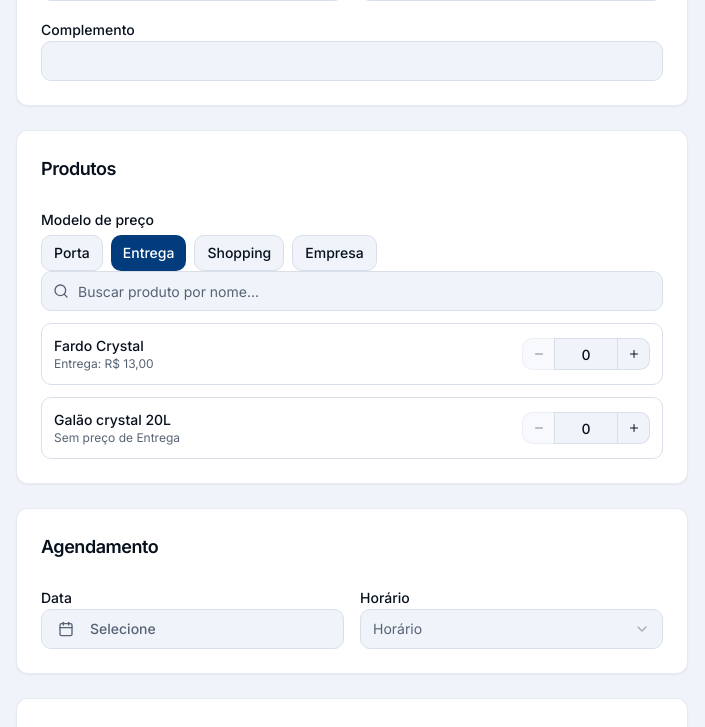
Test case: Novo pedido: preço por item › trocar o modelo de preço refaz o preço dos itens
The width and height of the screenshot is (705, 727).
Later steps or results of the test are not shown.
(page scrolled)
Click the button named "Aumentar" in the row of "Entrega: R$ 13,00".
click(634, 354)  # box [618,338,650,370]
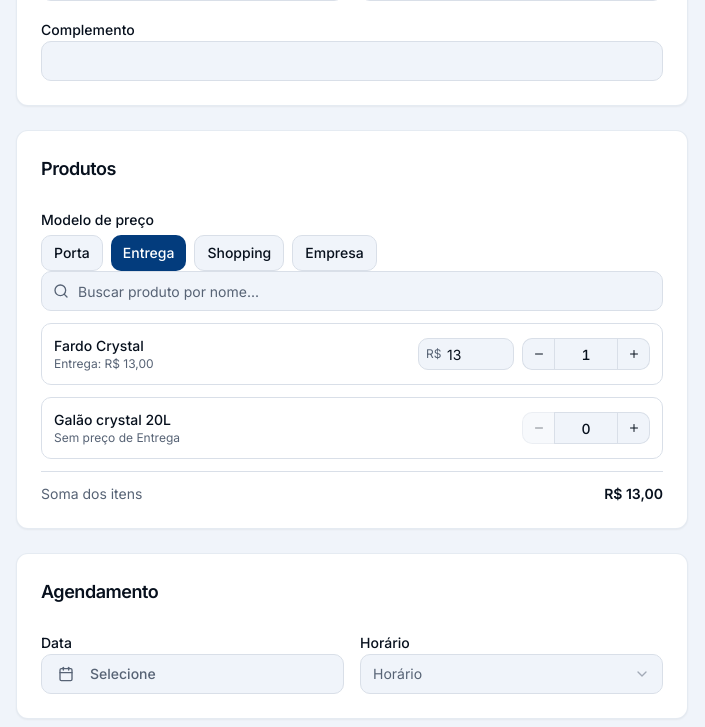
Now the field named "Preço unitário de Fardo Crystal" holds "13", box [418,338,514,370]
Click the button "Shopping".
click(239, 253)  # box [194,235,284,271]
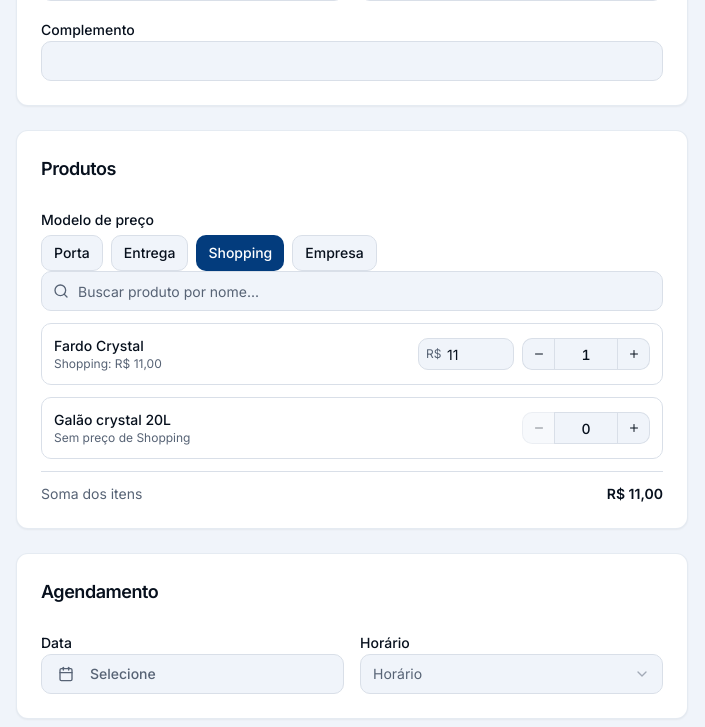
Now the field named "Preço unitário de Fardo Crystal" holds "11", box [418,338,514,370]
Click the button "Empresa".
click(334, 253)  # box [292,235,377,271]
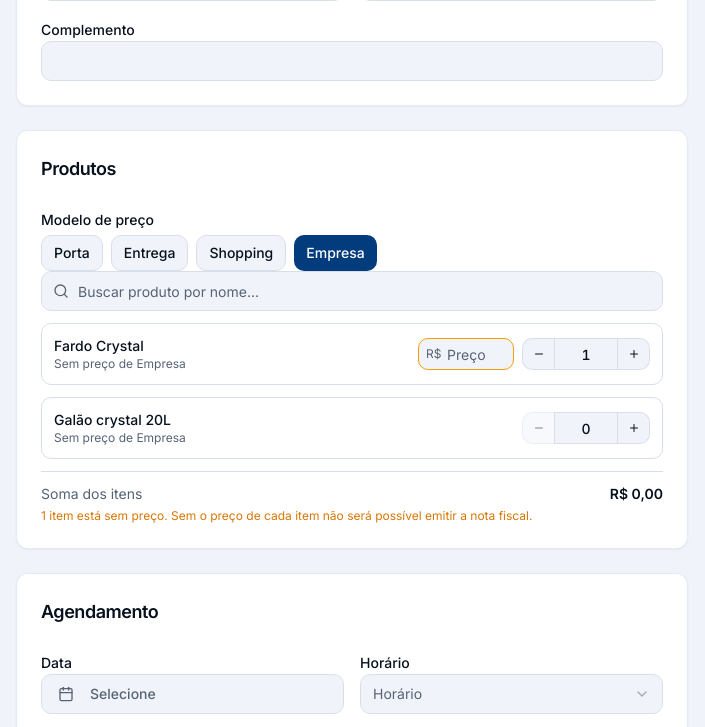
Now the field named "Preço unitário de Fardo Crystal" is empty, box [418,338,514,370]
Now the text "1 item está sem preço" is shown, box [41,508,168,523]
